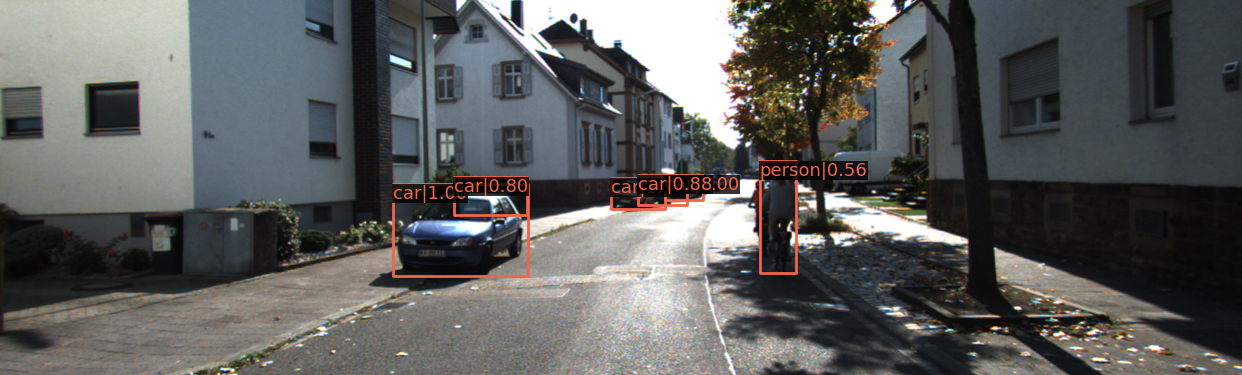car: (384, 193, 527, 279), (610, 181, 661, 211), (768, 178, 795, 201)
